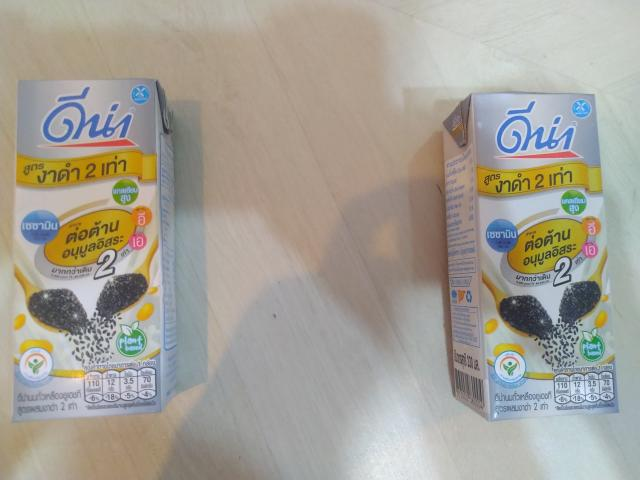drink_box: (436, 85, 627, 436), (9, 73, 186, 426)
